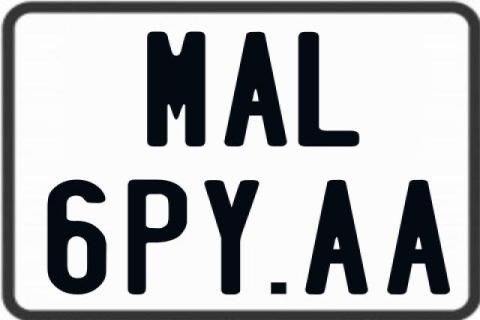0: (44, 180, 108, 299)
A: (384, 179, 451, 299), (302, 178, 368, 298), (223, 32, 291, 146)
L: (297, 29, 363, 149)
M: (145, 32, 206, 150)
P: (125, 178, 186, 296)
Y: (203, 180, 259, 298)
